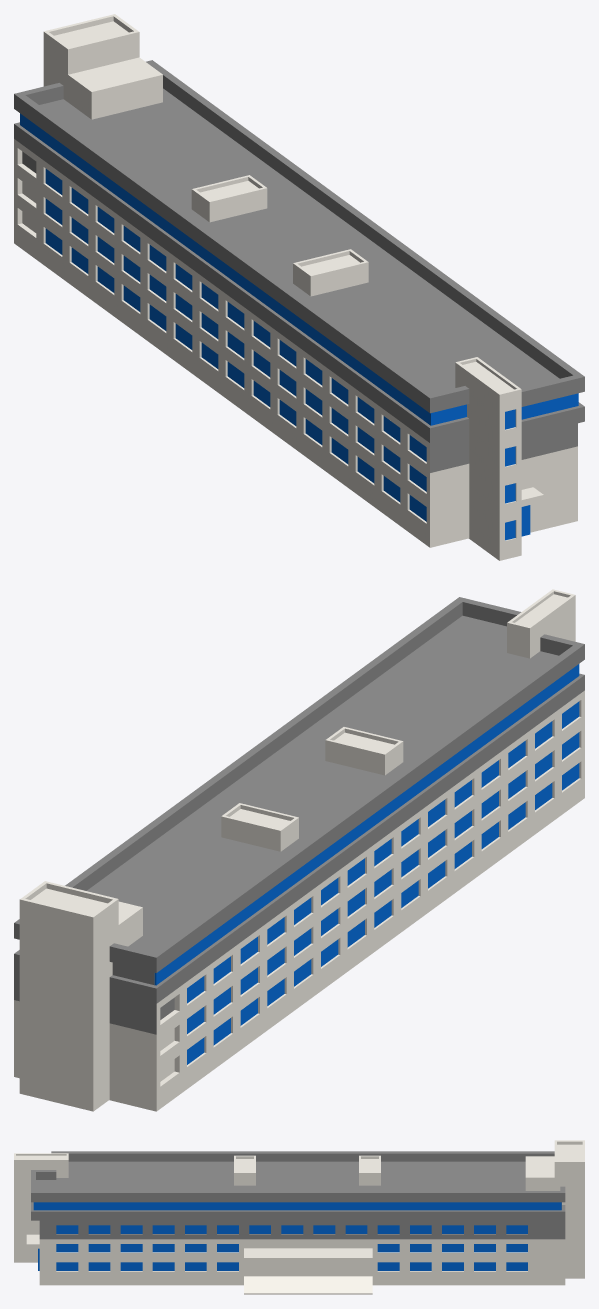
The model's file is 제1과학기술관.fbx.
3 views of the same model, one above another, from view 1: azimuth 30°, elevation 25°; view 2: azimuth 150°, elevation 25°; view 3: azimuth 270°, elevation 25° (orthographic). The views are drawn at different scales.
Parts seen in each view (by area): view 1: 제1과학기술관, Cube_42, Cube_2, Cube_43, Cube_5, Cube_13, Cube_4, Cube_3, Cube_1; view 2: 제1과학기술관, Cube_5, Cube_42, Cube_43, Cube_2, Cube_3, Cube_4, Cube_13; view 3: 제1과학기술관, Cube_42, Cube_43, Cube_5, Cube_2, Cube_13, Cube_4, Cube_3.
Boxes of the visible parts, bbox=[...] form: 제1과학기술관: bbox=[14, 60, 584, 547]; Cube_42: bbox=[45, 169, 426, 521]; Cube_2: bbox=[455, 357, 521, 560]; Cube_43: bbox=[20, 113, 578, 425]; Cube_5: bbox=[43, 14, 139, 101]; Cube_13: bbox=[67, 57, 162, 119]; Cube_4: bbox=[191, 175, 267, 222]; Cube_3: bbox=[293, 249, 368, 296]; Cube_1: bbox=[505, 409, 515, 540]; 제1과학기술관: bbox=[14, 597, 584, 1111]; Cube_5: bbox=[19, 881, 118, 1111]; Cube_42: bbox=[187, 701, 579, 1064]; Cube_43: bbox=[154, 664, 579, 985]; Cube_2: bbox=[507, 589, 575, 658]; Cube_3: bbox=[325, 727, 403, 775]; Cube_4: bbox=[221, 803, 298, 851]; Cube_13: bbox=[117, 901, 142, 946]; 제1과학기술관: bbox=[26, 1151, 565, 1294]; Cube_42: bbox=[56, 1225, 527, 1270]; Cube_43: bbox=[33, 1202, 561, 1210]; Cube_5: bbox=[554, 1140, 584, 1278]; Cube_2: bbox=[14, 1153, 68, 1262]; Cube_13: bbox=[525, 1156, 555, 1190]; Cube_4: bbox=[359, 1155, 380, 1185]; Cube_3: bbox=[234, 1155, 255, 1185].
Bounding box in the file's own units: 355 × 379 × 1668.
